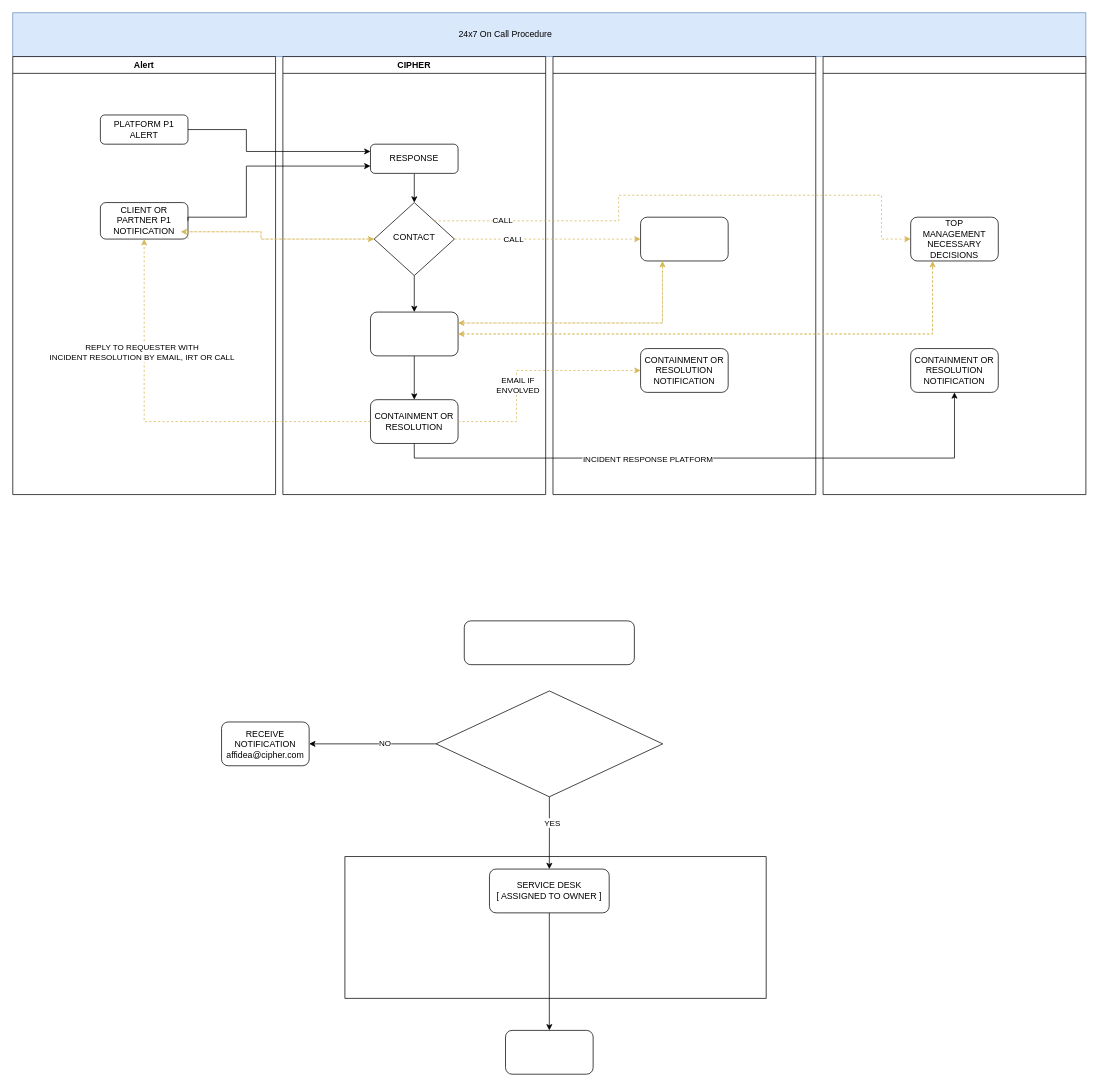
Some shapes in this 1099 by 1087 pixel diagram are drawn without their labels. Each missing label, with the box of its shape:
1) ASSIGNED TO SOC/CIPHER IN SERVICE DESK: (435, 690, 663, 797)
CISO: (822, 56, 1086, 495)
CONTAINMENT OR MITIGATION STRATEGIES: (370, 311, 458, 356)
FIREWALL RELATED NECESSARY ACTIONS: (640, 216, 728, 261)
INCIDENT DETECTED [COUNTRIES || PARTNERS || CIPHER]: (464, 620, 634, 665)
INCIDENT RESOLUTION: (505, 1030, 593, 1074)
LOGICALIS: (552, 56, 816, 495)
